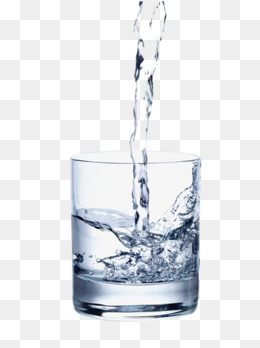glass of water: (63, 133, 213, 323)
